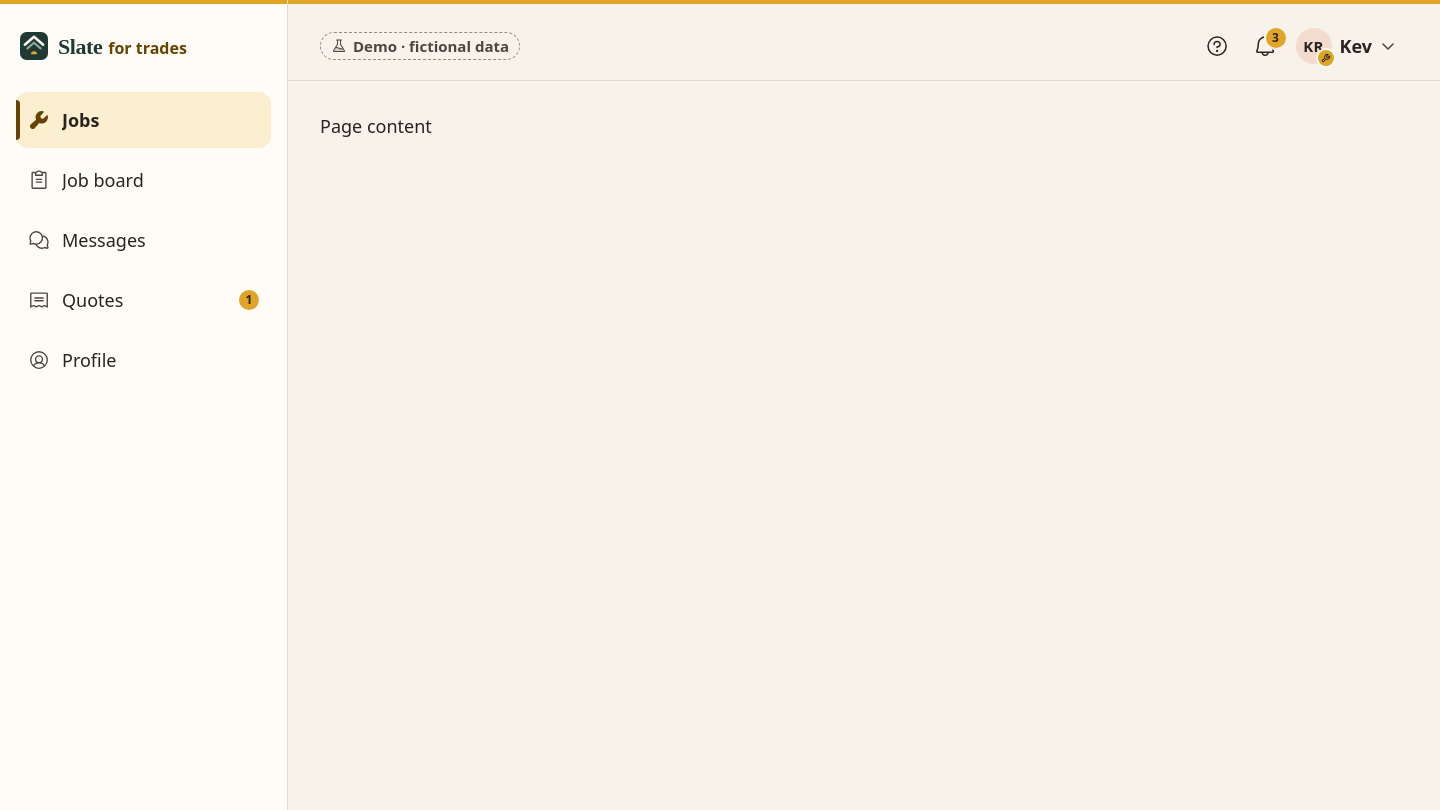
Scenario: header › signs out from the account menu
The image size is (1440, 810).
Click the button with aria-label "Account: Kev Rattray": {"x": 1350, "y": 46} [1292, 24, 1408, 68]
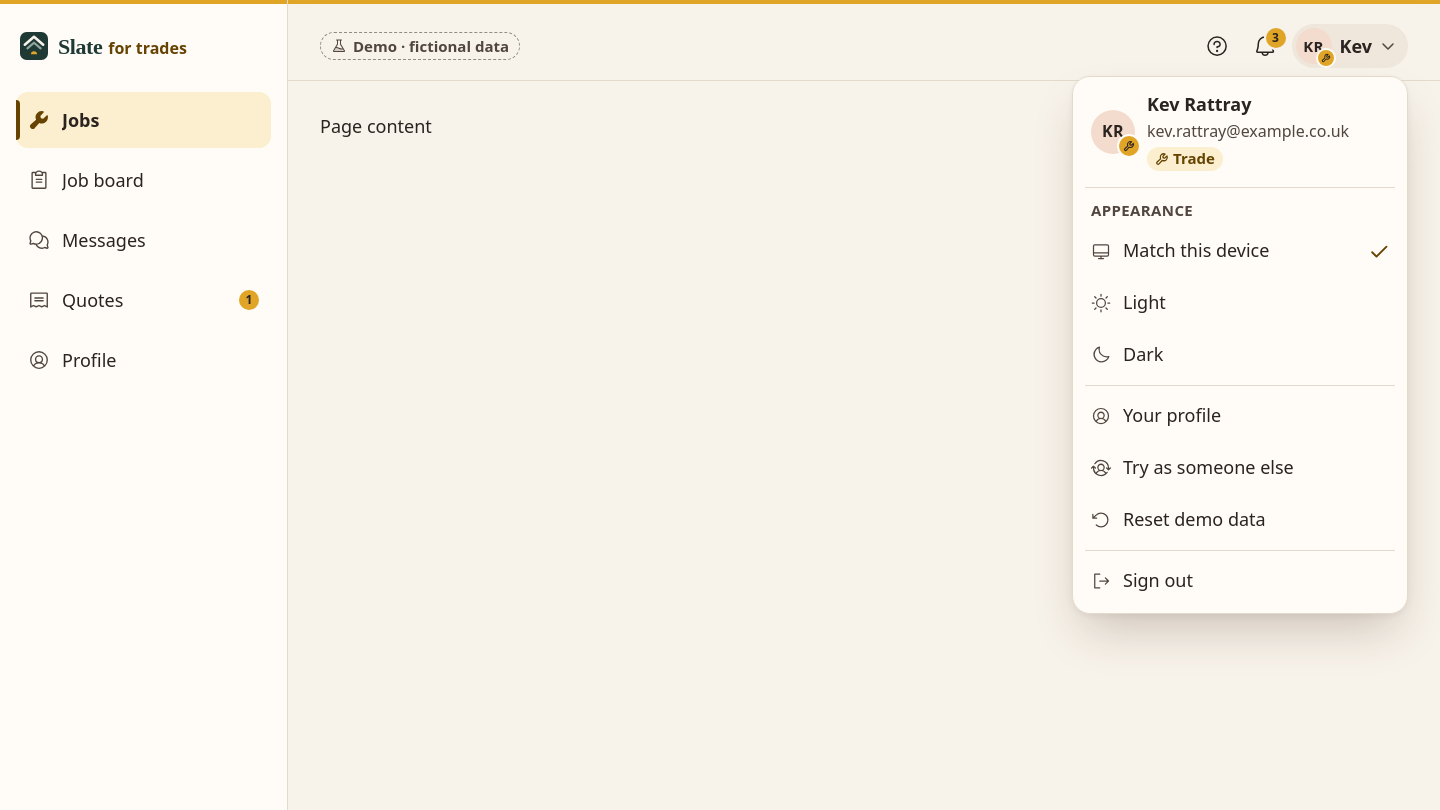
Click the menu item "Sign out": {"x": 1142, "y": 580} [1091, 568, 1193, 592]
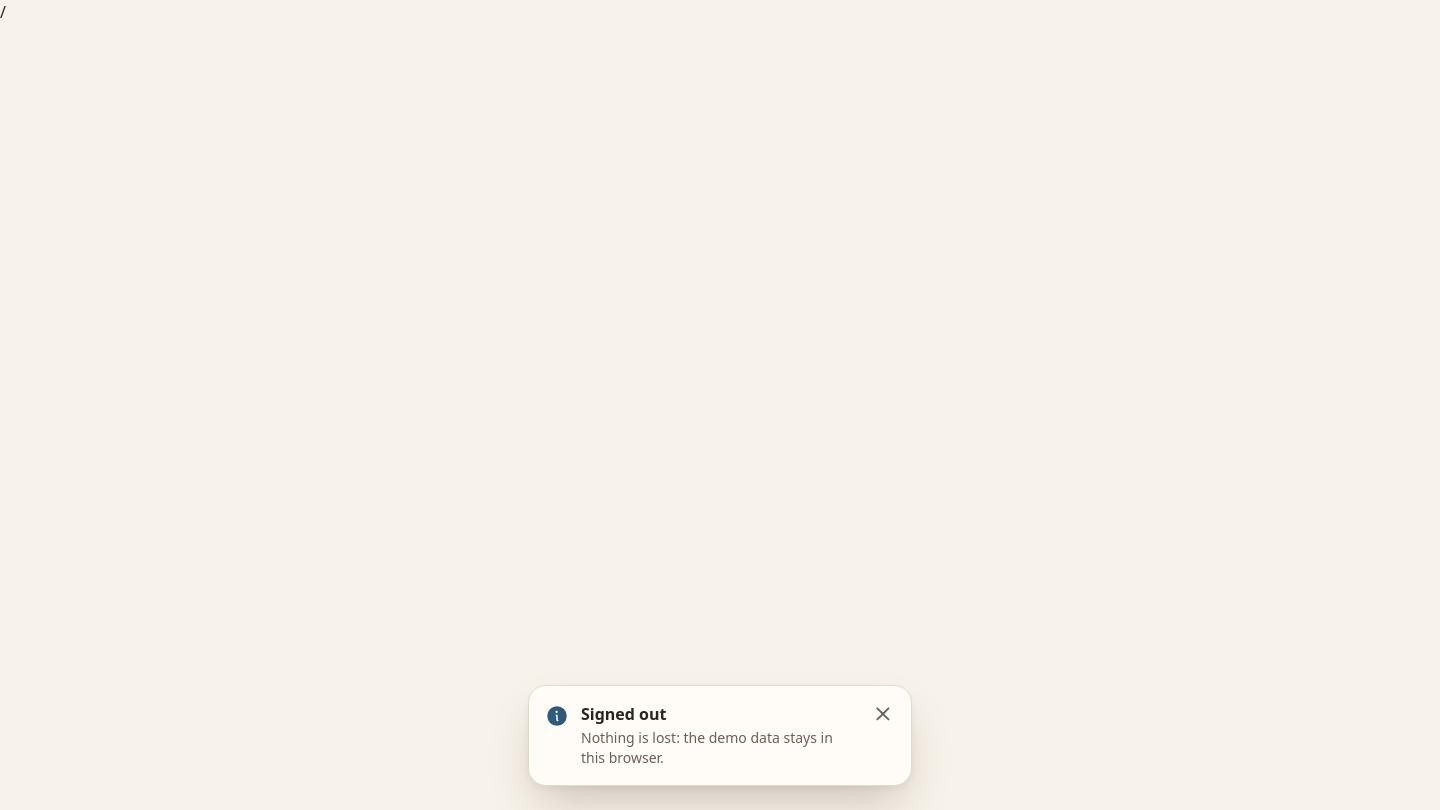
Now the text with test id "location" reads "/", box [0, 1, 6, 23]
